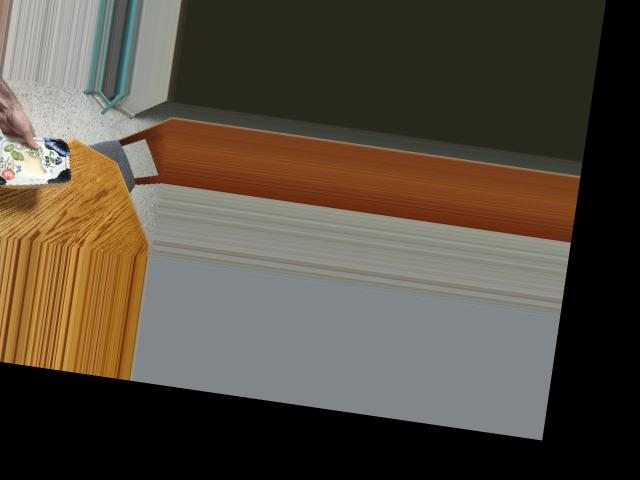cheese: (1, 122, 72, 192)
